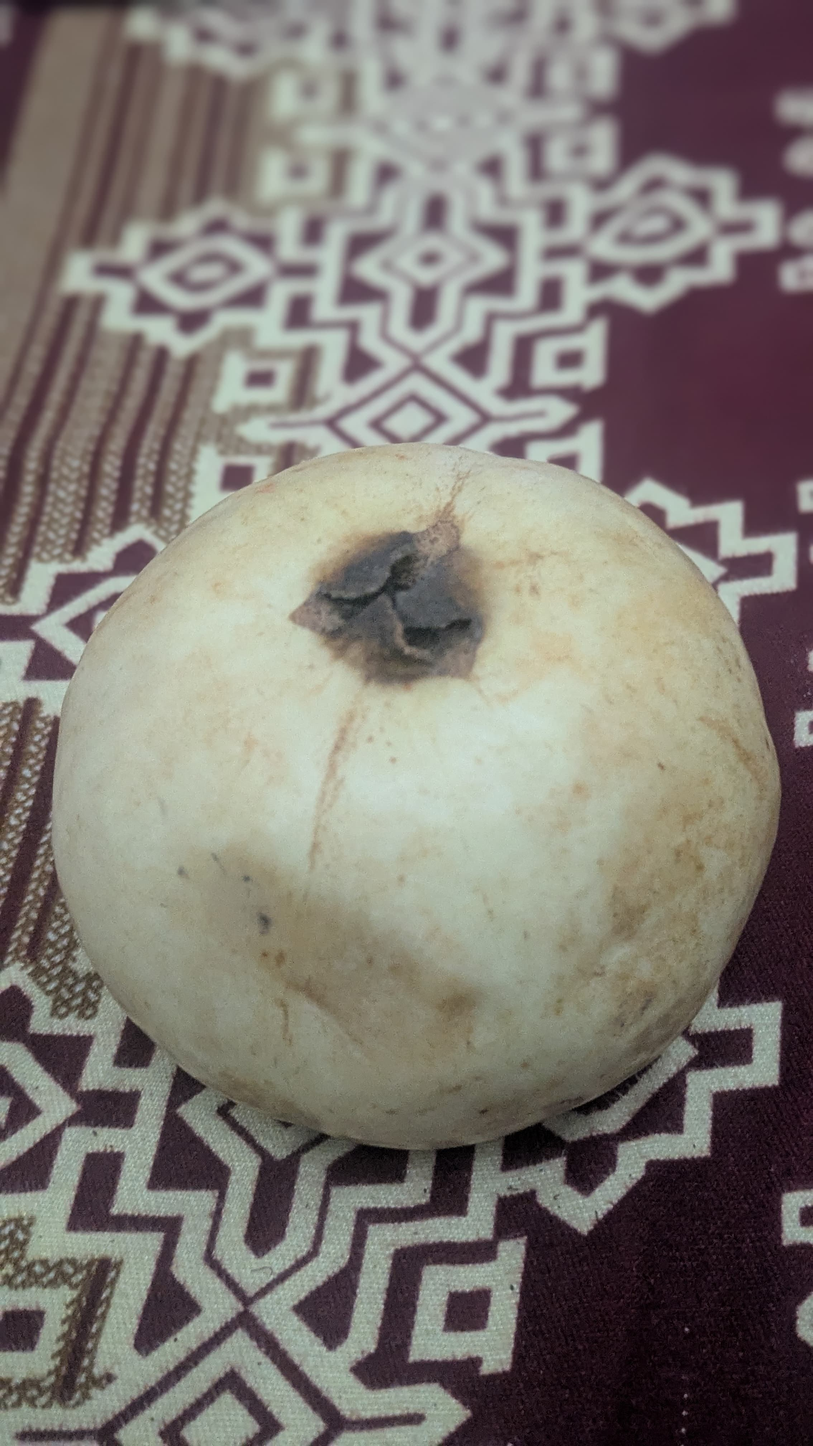guava: (144, 201, 697, 1223)
